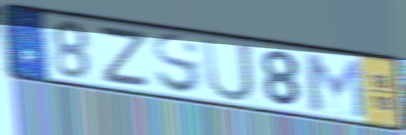8: (51, 18, 93, 81), (260, 49, 304, 108)
M: (301, 50, 370, 121)
S: (151, 32, 204, 98)
U: (201, 36, 257, 104)
Z: (99, 25, 151, 90)
